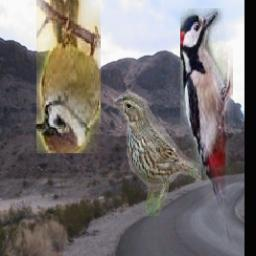Sparrow: (113, 90, 201, 217), (35, 0, 100, 154)
Woodpecker: (179, 9, 232, 243)
